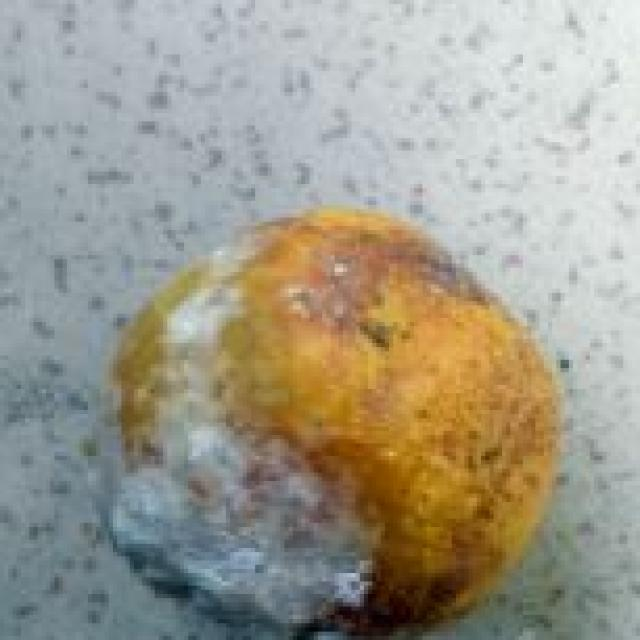Bad_Lime-0-1-day: (105, 205, 565, 640)
